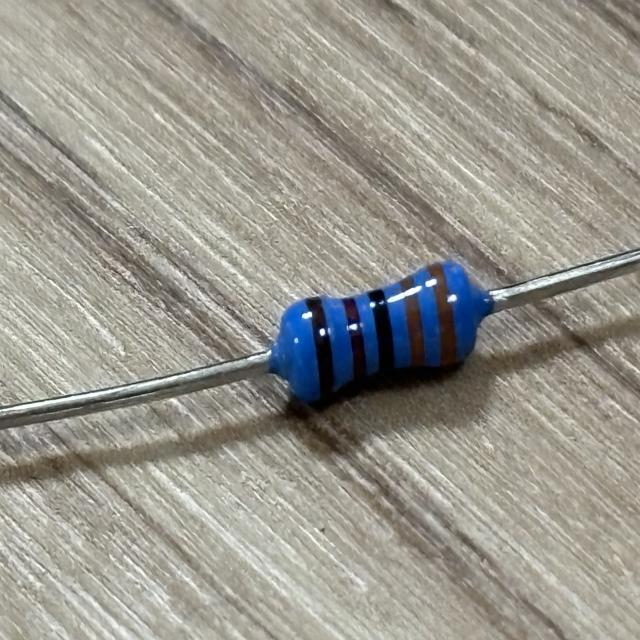resistor: (284, 255, 478, 409)
